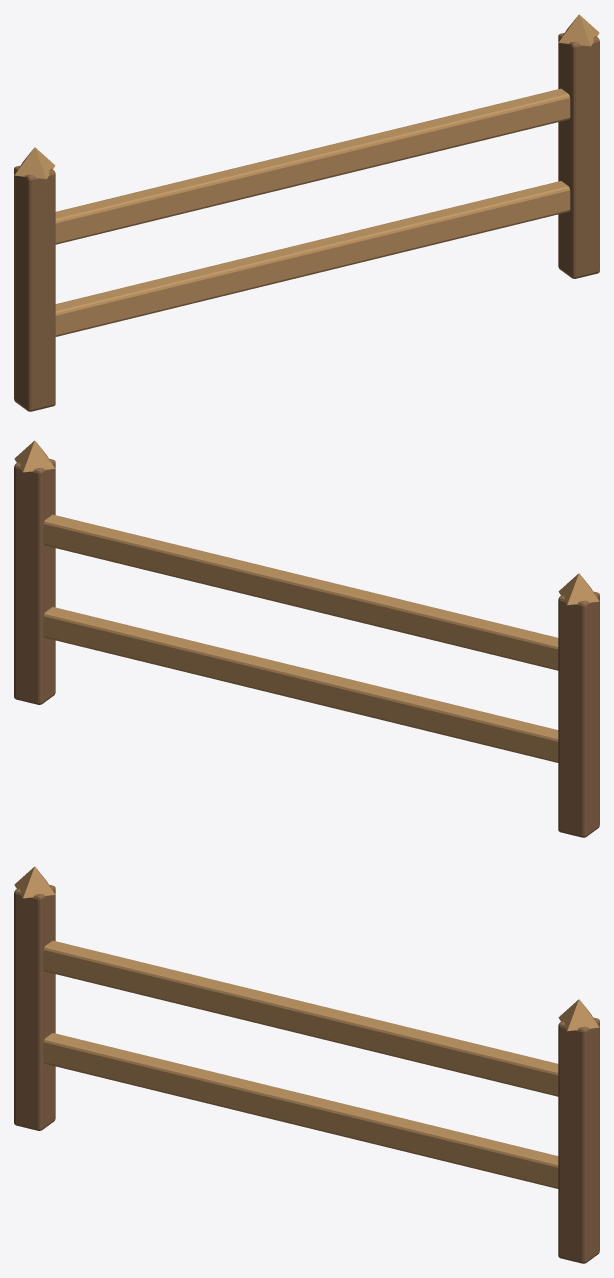
File: fence-section.glb
3 views of the same model, one above another, from view 1: azimuth 30°, elevation 25°; view 2: azimuth 150°, elevation 25°; view 3: azimuth 330°, elevation 25° (orthographic).
Parts seen in each view (by area): view 1: Rail, Rail.001, Post.006, Post.007, PostCap.001, PostCap; view 2: Rail, Rail.001, Post.006, Post.007, PostCap.001, PostCap; view 3: Rail, Rail.001, Post.007, Post.006, PostCap, PostCap.001.
Boxes of the visible parts, x1,y1,x2,y2 form: Rail: (55, 181, 570, 336); Rail.001: (55, 88, 570, 244); Post.006: (14, 165, 55, 411); Post.007: (558, 32, 599, 278); PostCap.001: (558, 14, 599, 46); PostCap: (14, 147, 55, 179); Rail: (43, 607, 558, 762); Rail.001: (43, 514, 558, 670); Post.006: (558, 591, 599, 837); Post.007: (14, 458, 55, 704); PostCap.001: (14, 440, 55, 472); PostCap: (558, 573, 599, 605); Rail: (43, 1033, 558, 1188); Rail.001: (43, 940, 558, 1096); Post.007: (558, 1017, 599, 1263); Post.006: (14, 884, 55, 1130); PostCap: (14, 866, 55, 898); PostCap.001: (558, 999, 599, 1031).
Size of the model in its own units: 3.12 by 1.31 by 0.22.
